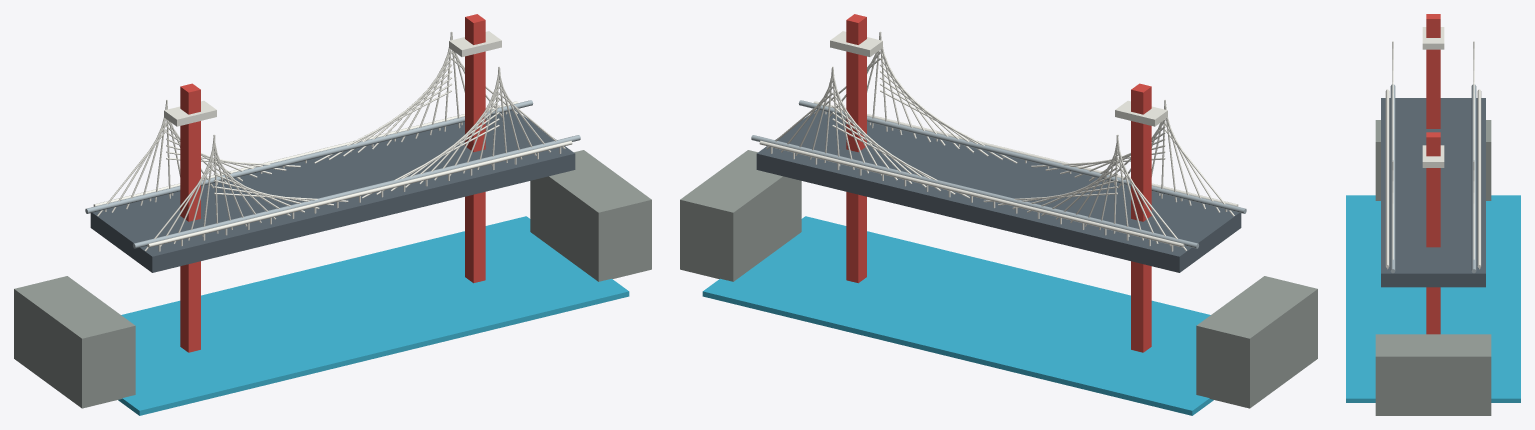
3 views of the same model, side by side, from view 1: azimuth 30°, elevation 25°; view 2: azimuth 150°, elevation 25°; view 3: azimuth 270°, elevation 25° (orthographic). The views are drawn at different scales.
Parts seen in each view (by area): view 1: river-base, bridge-deck, bridge-abutment (×2), bridge-tower (×2), beam (×4), tower-cap (×2); view 2: river-base, bridge-deck, bridge-abutment (×2), bridge-tower (×2), beam (×4), tower-cap (×2); view 3: river-base, bridge-deck, bridge-abutment (×2), beam (×4), bridge-tower (×2), tower-cap (×2).
Boxes of the visible parts, left/top/right/bottom form: river-base: left=118, top=216, right=629, bottom=415; bridge-deck: left=90, top=109, right=575, bottom=272; bridge-abutment (×2): left=14, top=150, right=651, bottom=408; bridge-tower (×2): left=180, top=14, right=485, bottom=352; beam (×4): left=85, top=100, right=580, bottom=248; tower-cap (×2): left=164, top=31, right=501, bottom=126; river-base: left=702, top=216, right=1213, bottom=415; bridge-deck: left=756, top=109, right=1241, bottom=272; bridge-abutment (×2): left=680, top=150, right=1317, bottom=408; bridge-tower (×2): left=846, top=14, right=1151, bottom=352; beam (×4): left=751, top=100, right=1246, bottom=248; tower-cap (×2): left=830, top=31, right=1167, bottom=126; river-base: left=1346, top=195, right=1520, bottom=402; bridge-deck: left=1381, top=98, right=1485, bottom=287; bridge-abutment (×2): left=1375, top=120, right=1491, bottom=415; beam (×4): left=1385, top=84, right=1481, bottom=273; bridge-tower (×2): left=1426, top=14, right=1440, bottom=334; tower-cap (×2): left=1422, top=27, right=1444, bottom=167.
Size of the model in its own units: 25.6 by 11.39 by 8.
